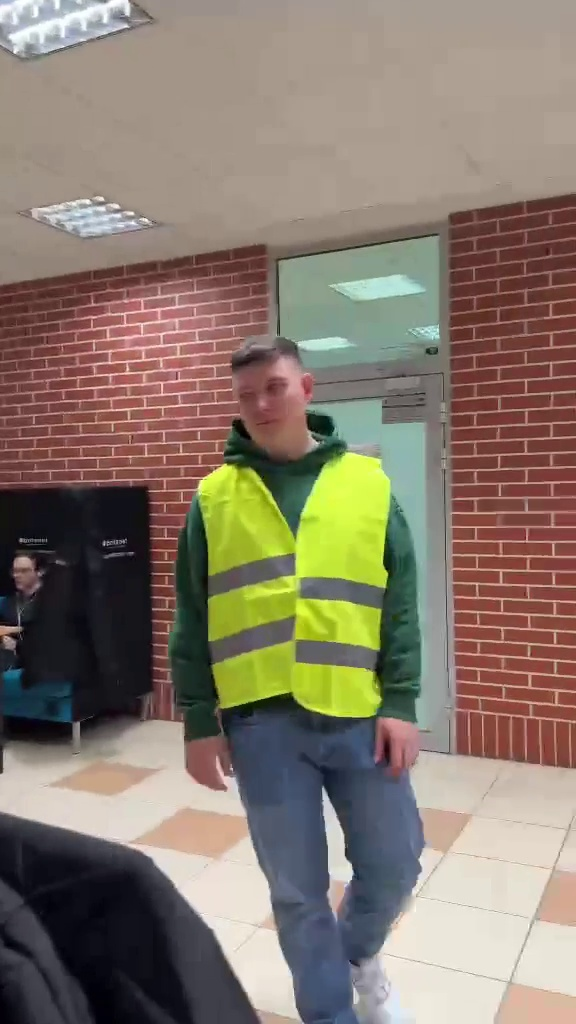vest: (169, 337, 426, 1000)
